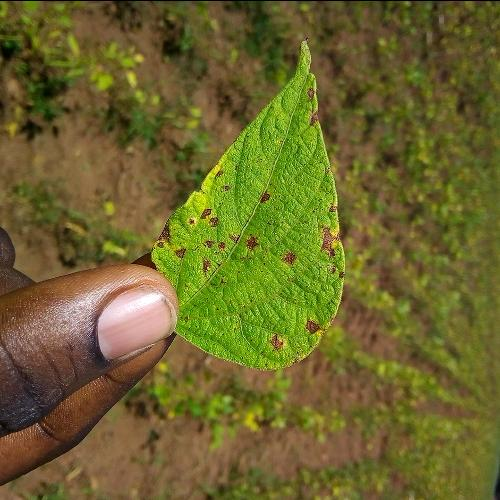hawar: (156, 118, 330, 369)
